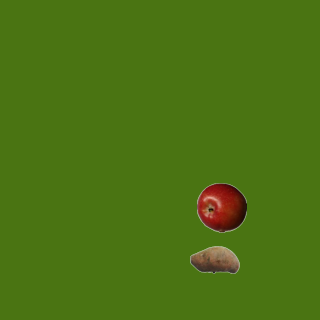Apple Braeburn: (196, 182, 246, 232)
Potato Sweet: (189, 234, 239, 284)
